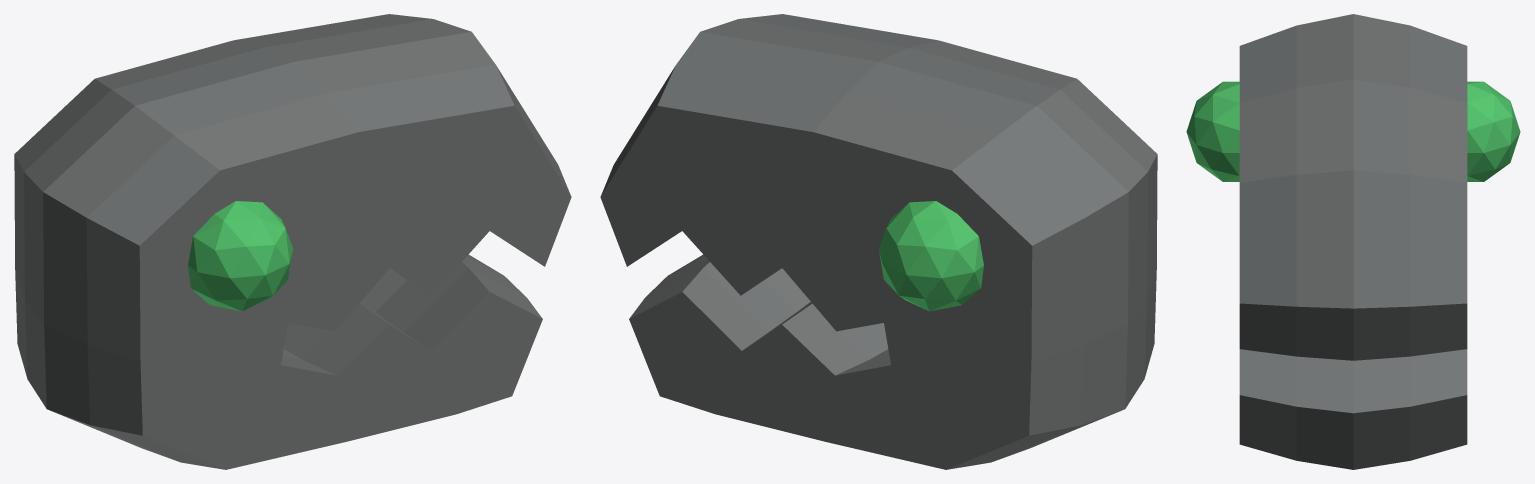
Rendered from PlayerHead.obj.
3 renders of one model, left to right at view 1: azimuth 30°, elevation 25°; view 2: azimuth 150°, elevation 25°; view 3: azimuth 270°, elevation 25°, orthographic. The views are drawn at different scales.
Parts seen in each view (by area): view 1: 平面; view 2: 平面; view 3: 平面.
Boxes of the visible parts, left/top/right/bottom form: 平面: left=14, top=14, right=571, bottom=469; 平面: left=600, top=14, right=1157, bottom=469; 平面: left=1186, top=14, right=1520, bottom=469.
Bounding box in the file's own units: 3.59 × 2.44 × 2.32.
1 material, 1 textured.
